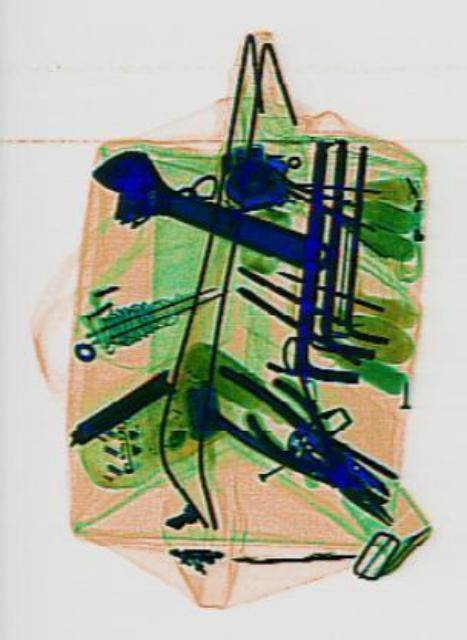Pliers: (195, 358, 398, 524), (236, 366, 406, 550)
Wrench: (79, 133, 336, 293)
